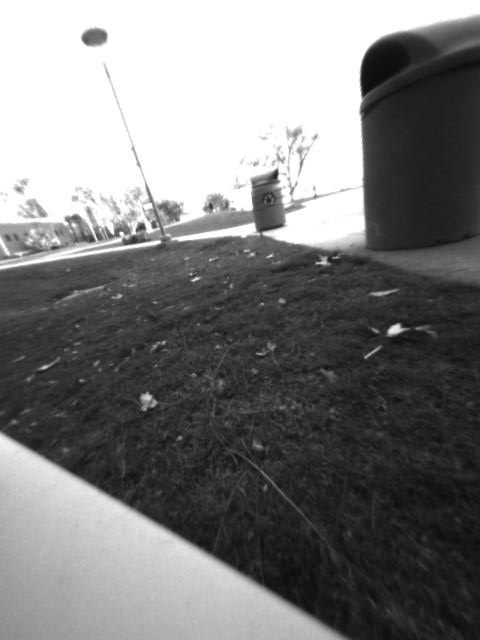trashcan: (360, 13, 480, 252)
